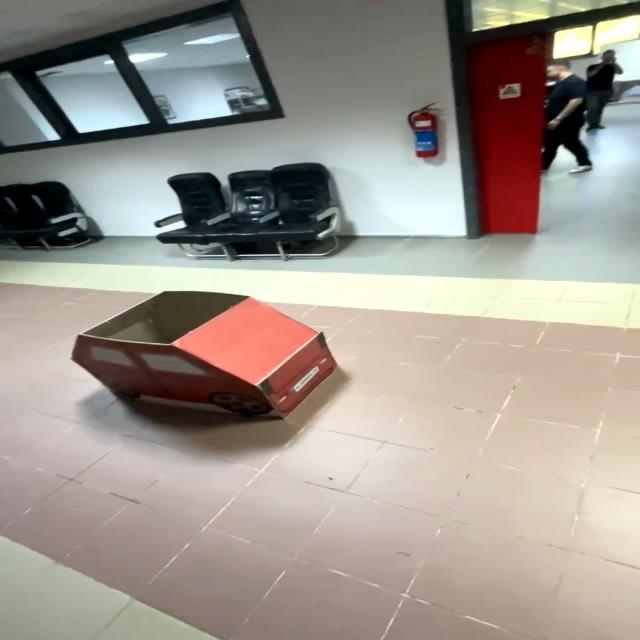red_car: (37, 275, 395, 447)
